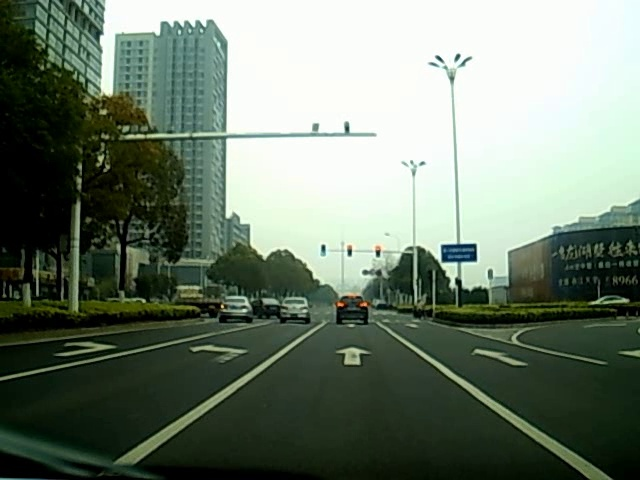Traffic_Light_go: (320, 244, 327, 258)
Traffic_Light_stop: (374, 246, 382, 260), (347, 245, 355, 258)
